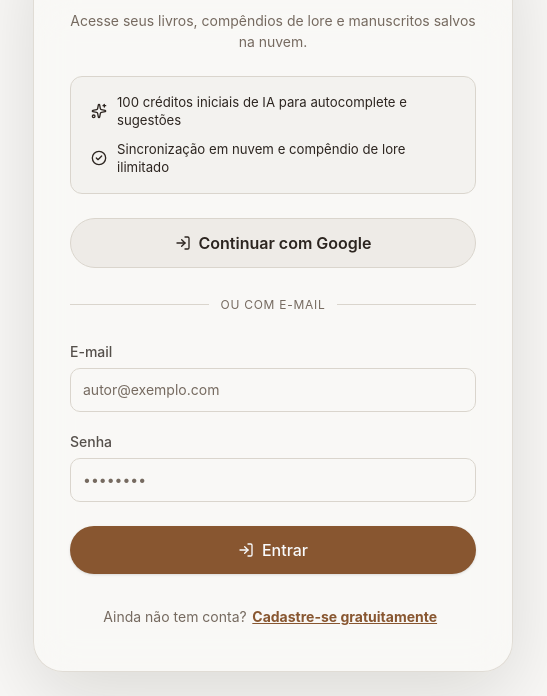
Test: LoginPage › alterna para cadastro e valida tamanho minimo de senha
(page scrolled)
Click the button "Cadastre-se gratuitamente" at (345, 616), box [247,606,443,627]
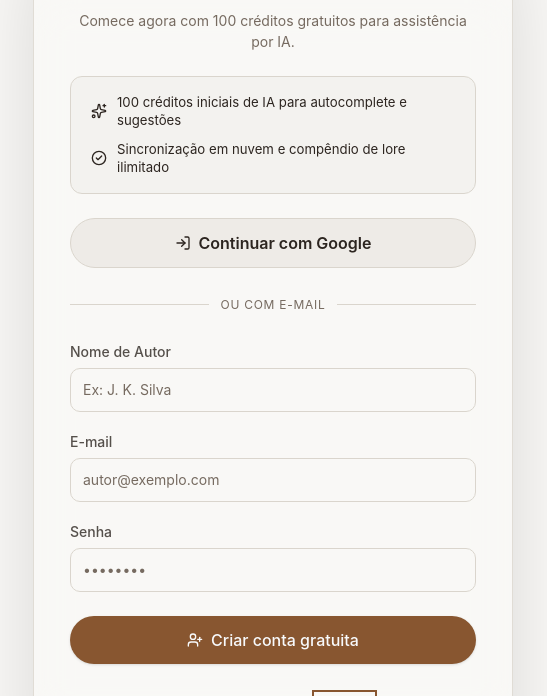
Expected: the field labelled "Nome de Autor" is shown
Type "George Orwell" into the field labelled "Nome de Autor" at (273, 390), box [70,368,476,412]
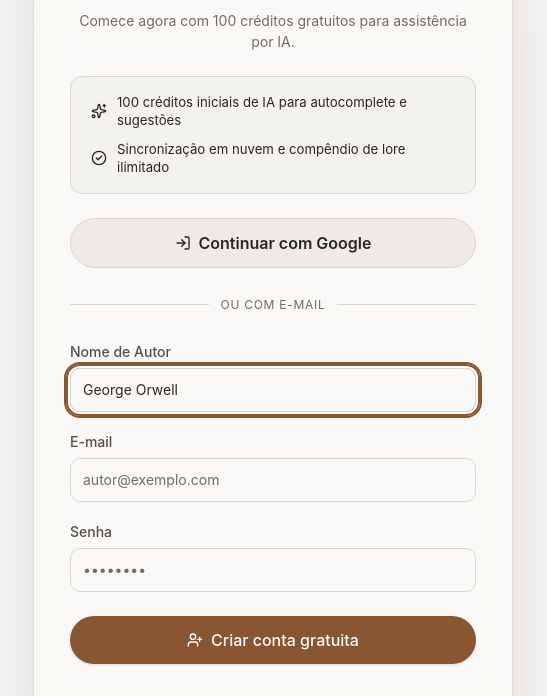
Type "orwell@teste.com" into the field labelled "E-mail" at (273, 480), box [70,458,476,502]
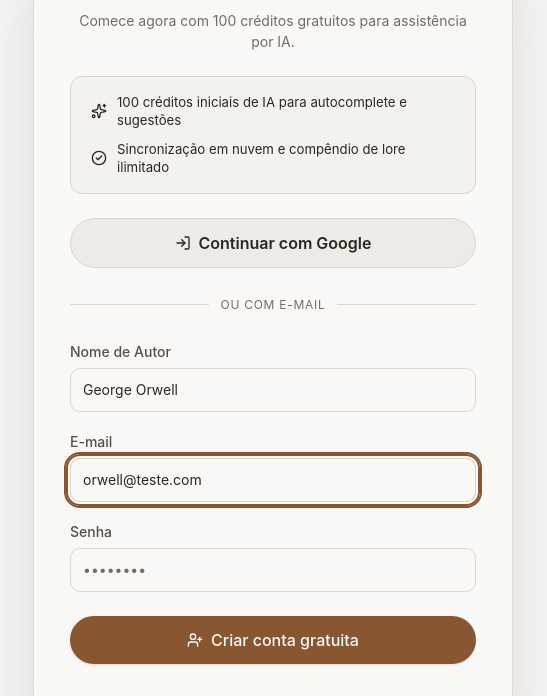
Type "123" into the password field labelled "Senha" at (273, 570), box [70,548,476,592]
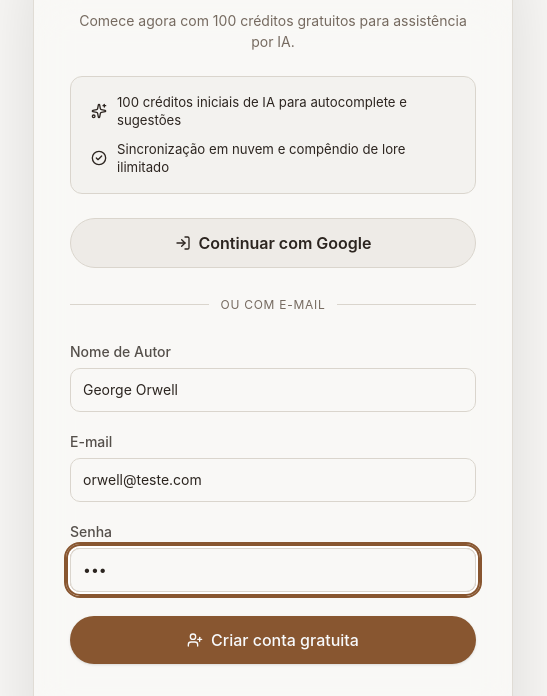
Click the button "Criar conta gratuita" at (273, 640), box [70,616,476,664]
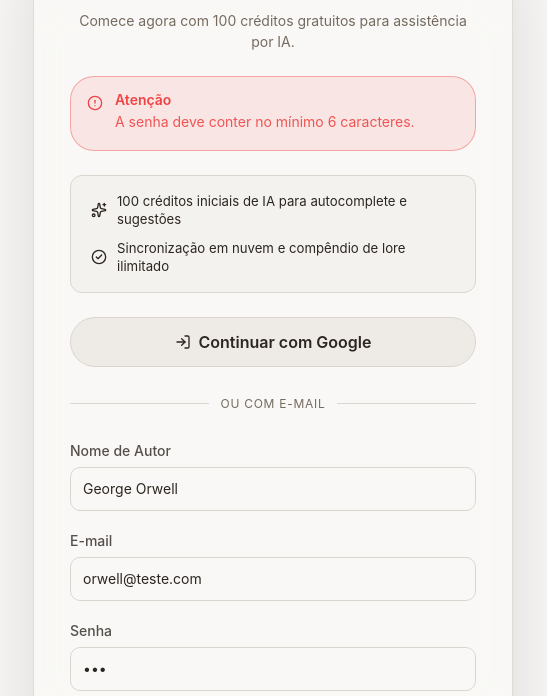
Expected: the text "A senha deve conter no mínimo 6 caracteres." is shown, [115,111,459,134]
